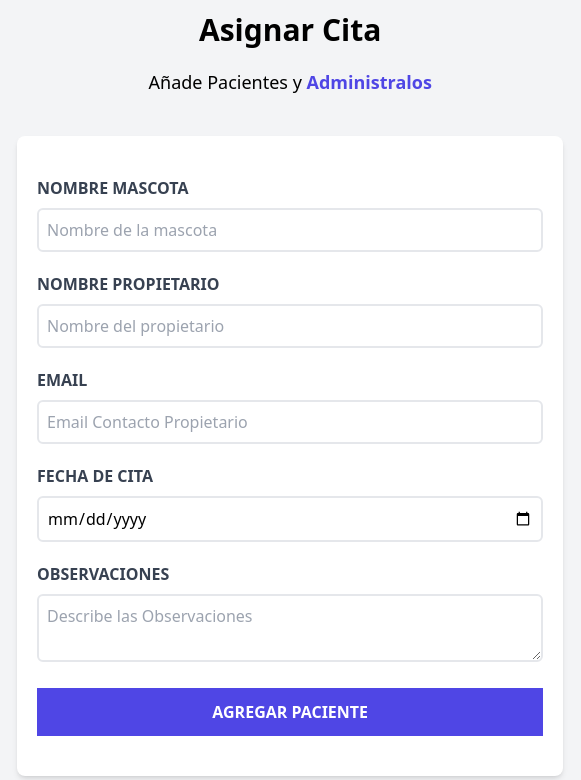
Formulario › deber�a mostrar un error si el campo propietario est� vac�o y el formulario es enviado
# Llenamos el formulario con los campos vac�os
Type "Luna" into the field labelled "Nombre Mascota".
click(290, 230); type("Luna")  # box [37,208,543,252]
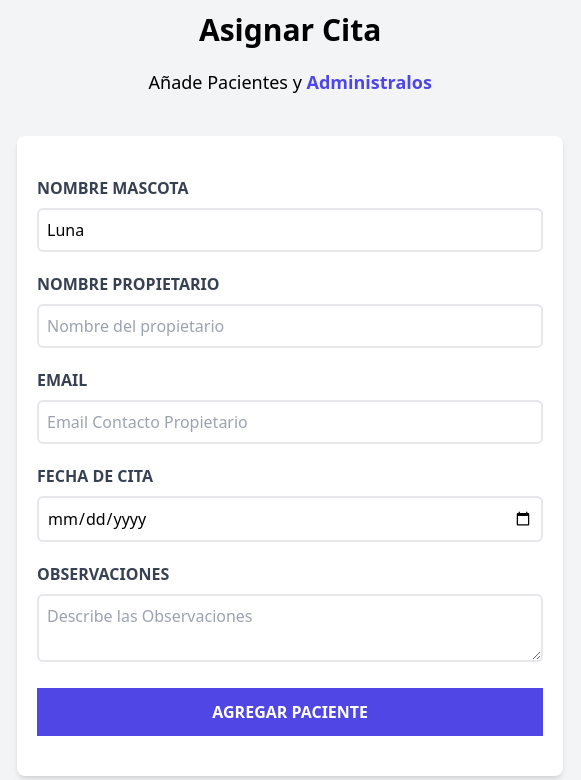
Type "juan@example.com" into the field labelled "Email".
click(290, 422); type("juan@example.com")  # box [37,400,543,444]
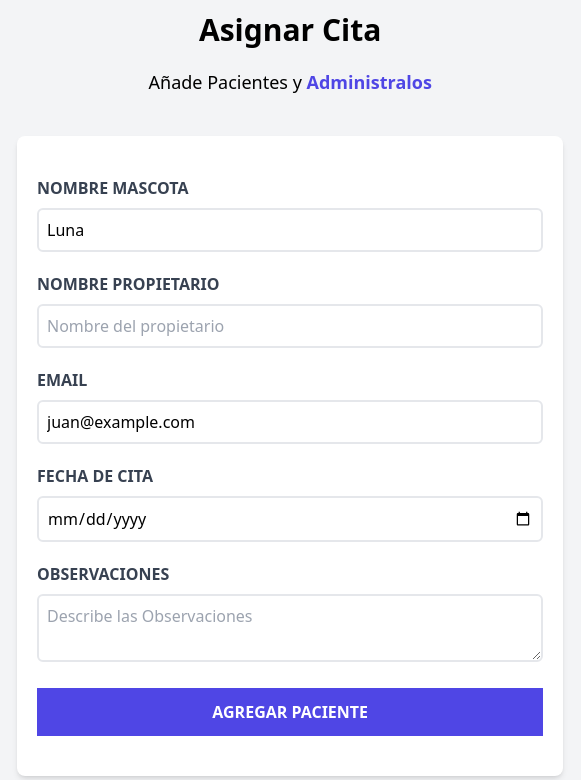
Type "2025-12-12" into the date field labelled "Fecha de Cita".
click(290, 519); type("2025-12-12")  # box [37,496,543,542]
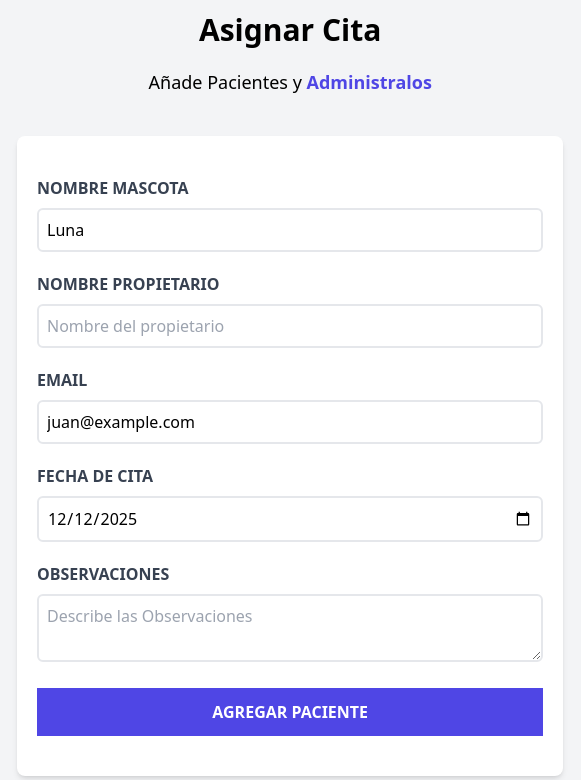
Type "Paciente saludable" into the text box labelled "Observaciones".
click(290, 628); type("Paciente saludable")  # box [37,594,543,662]
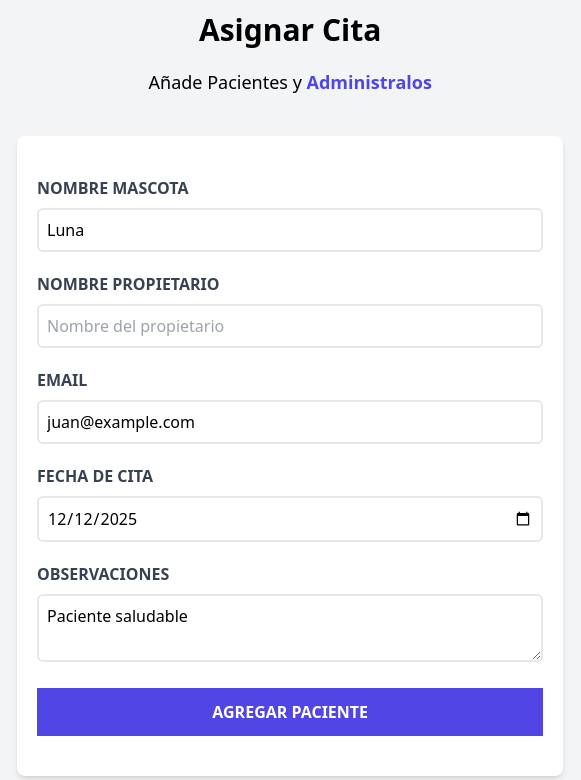
Click the button "Agregar paciente".
click(290, 712)  # box [37,688,543,736]
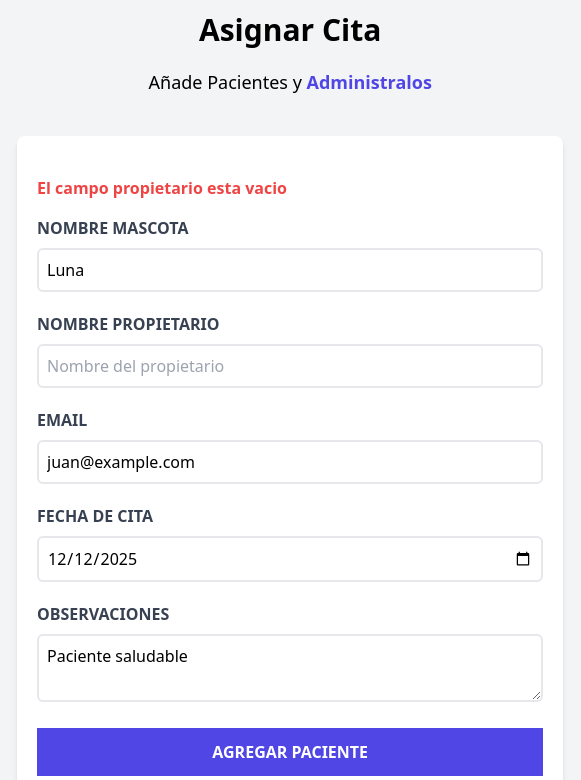
Result: the text "El campo propietario esta vacio" is shown at [37,177,287,199]
